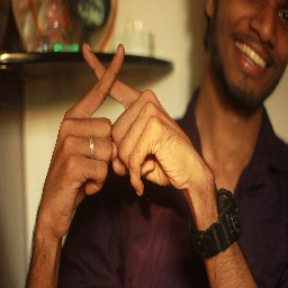X: (56, 36, 163, 139)
